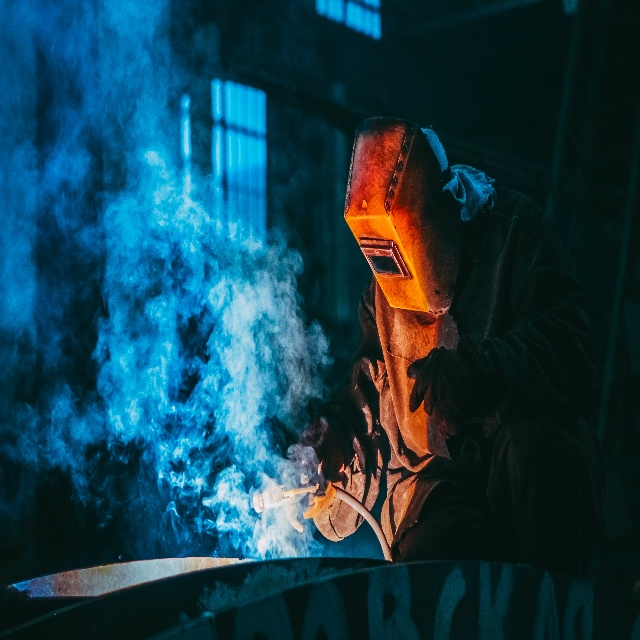Guantes: (406, 334, 483, 439)
